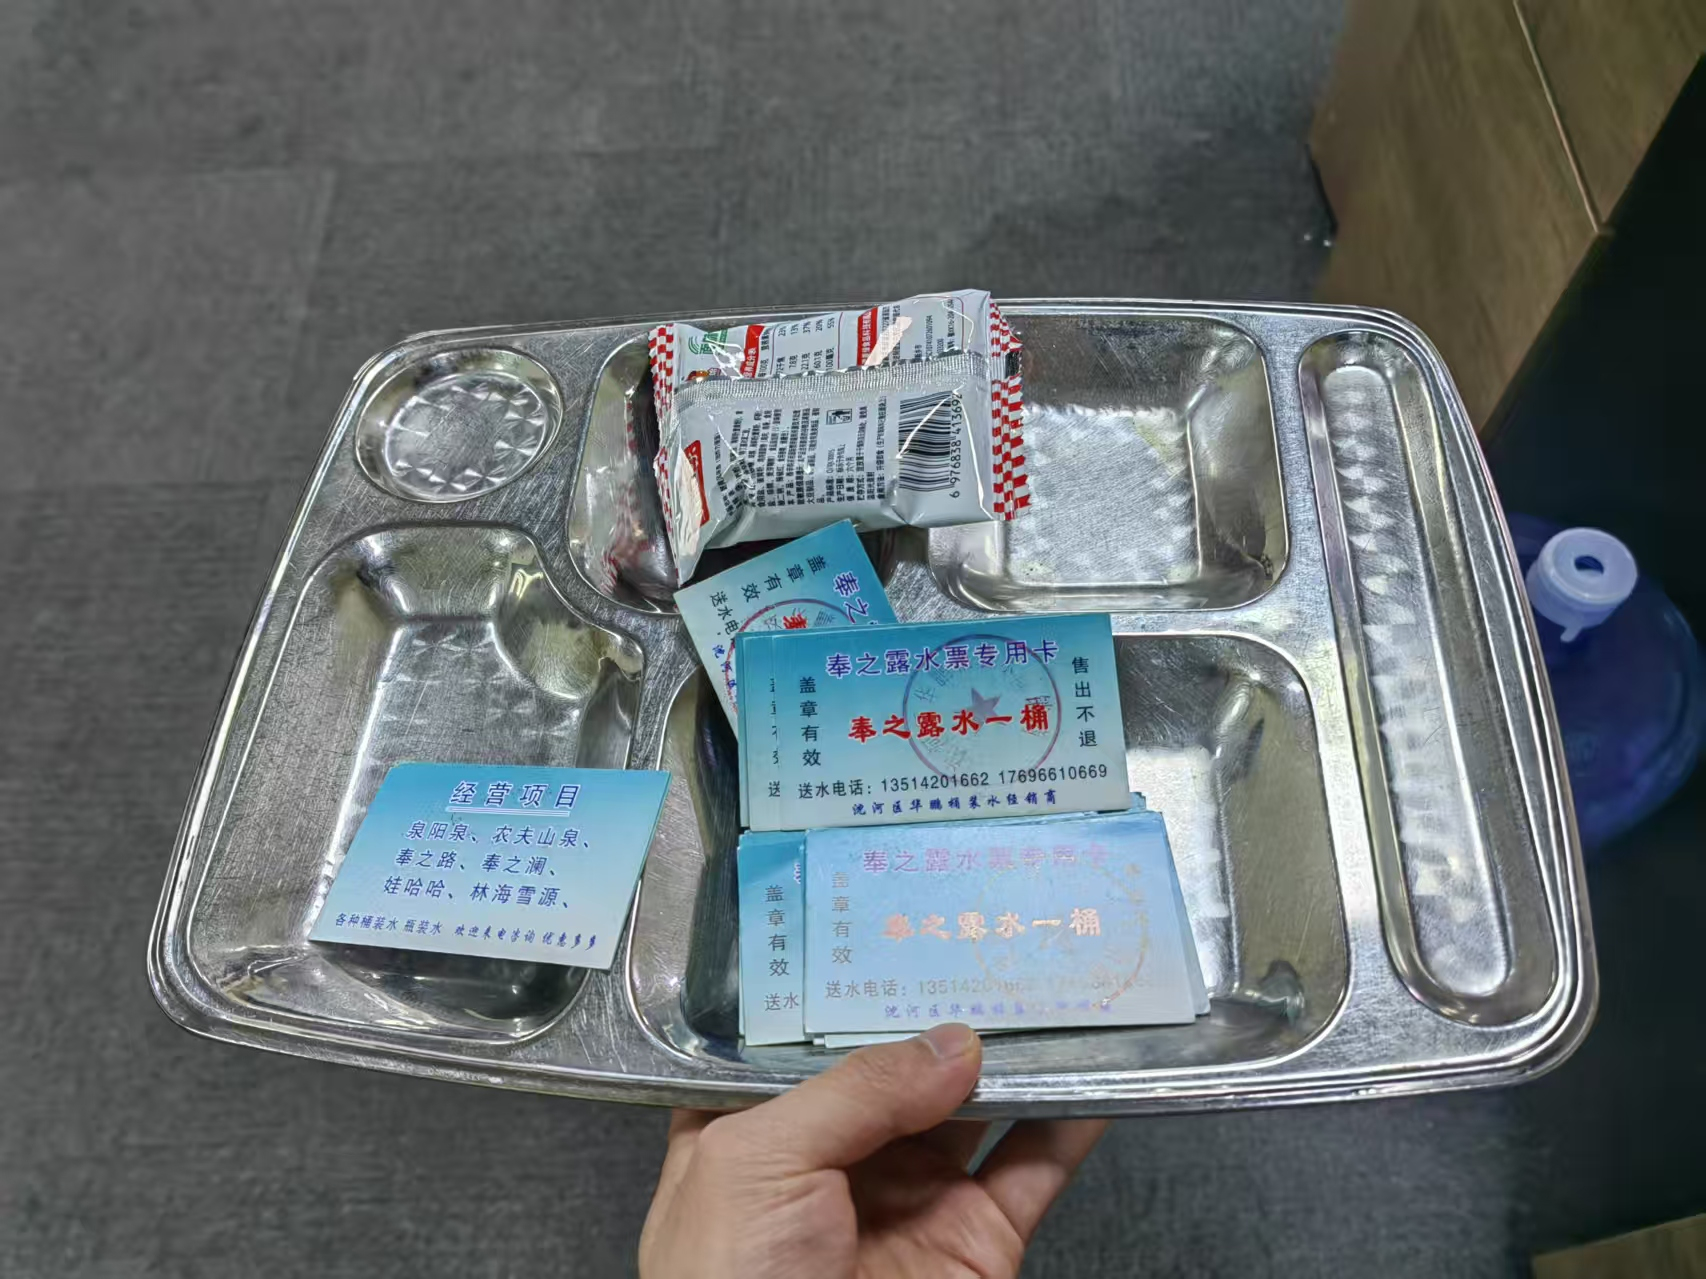moderate: (300, 293, 1216, 1038)
plate: (144, 291, 1605, 1124)
